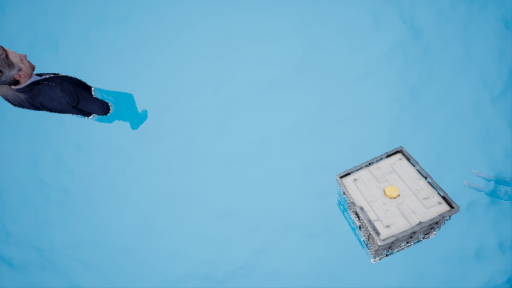person: (1, 42, 156, 132)
